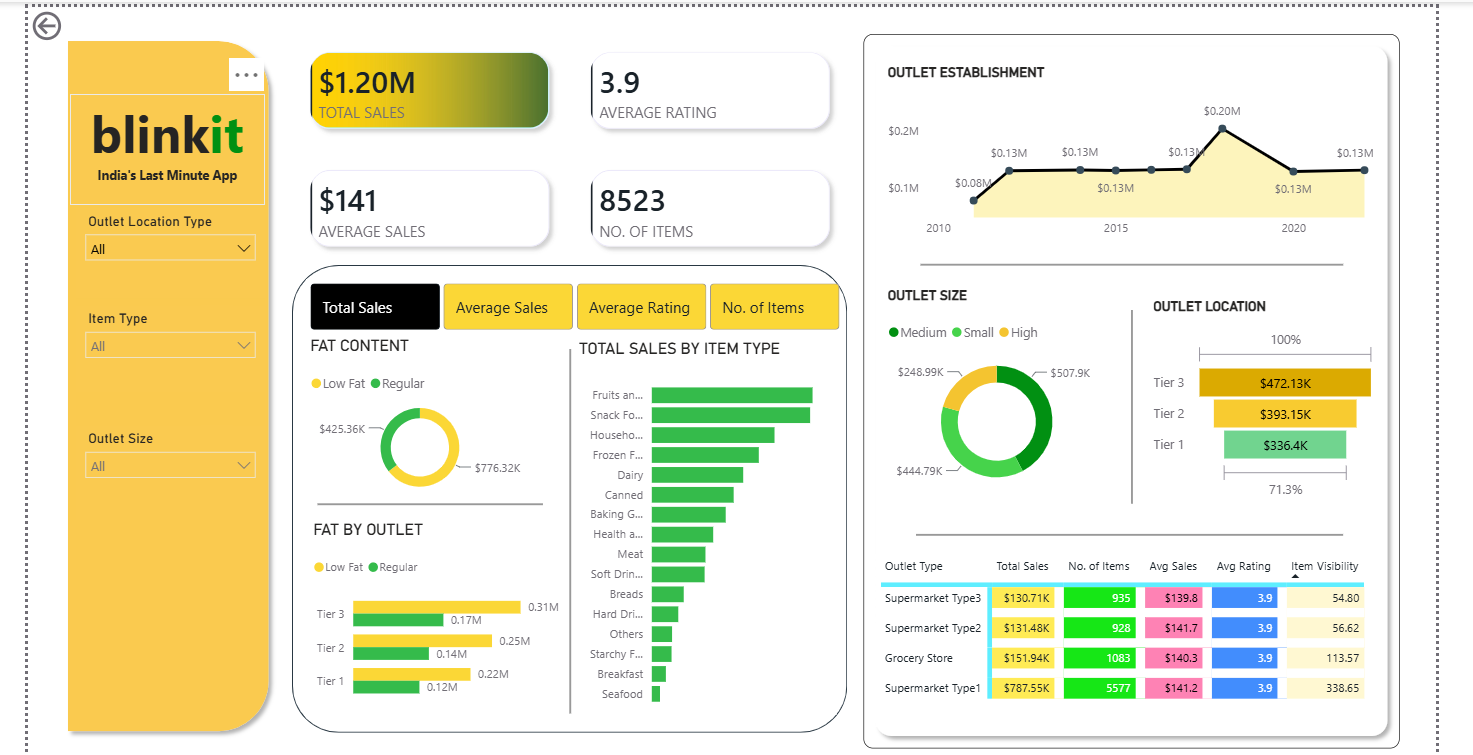

What the dashboard file says about the page in this screenshot:
{"tool":"powerbi","page":{"name":"Page 1","canvas":[1489,800],"ordinal":0},"visuals":[{"type":"shape","box":[33.3,27.3,230.3,748.5],"z":0},{"type":"shape","box":[883.7,27.9,567.4,755.8],"z":1000},{"type":"textbox","box":[45.1,92.2,205.9,117.6],"z":2000},{"type":"donutChart","title":"OUTLET SIZE","fields":{"Category":["Table1.Outlet Size"],"Y":["Sum(Table1.Sales)"]},"box":[905,297.5,240,227.5],"z":3000},{"type":"funnel","title":"OUTLET LOCATION","fields":{"Category":["Table1.Outlet Location Type"],"Y":["Sum(Table1.Sales)"]},"box":[1185,307.5,245,217.5],"z":4000},{"type":"actionButton","box":[0,0,100,40],"z":5000},{"type":"areaChart","title":"OUTLET ESTABLISHMENT","fields":{"Category":["Table1.Outlet Establishment Year"],"Y":["Sum(Table1.Sales)"]},"box":[904.7,60.5,527.1,191.4],"z":6000},{"type":"shape","box":[940,492.5,452,133],"z":7000},{"type":"shape","box":[1085,320,165,205],"z":8000},{"type":"shape","box":[945,212.5,447.5,120],"z":9000},{"type":"slicer","fields":{"Values":["Table1.Outlet Location Type"]},"box":[51.1,213.3,200,95.6],"z":10000},{"type":"slicer","fields":{"Values":["Table1.Item Type"]},"box":[51.1,315.6,200,91.1],"z":11000},{"type":"slicer","fields":{"Values":["Table1.Outlet Size"]},"box":[51.1,442.2,200,100],"z":12000},{"type":"shape","box":[280,272.5,587.5,495],"z":13000},{"type":"cardVisual","fields":{"Data":["Sum(Table1.Sales)","Avg(Table1.Rating)","Avg(Table1.Sales)","CountNonNull(Table1.Item Type)"]},"box":[280,28,588,244],"z":14000},{"type":"pivotTable","fields":{"Rows":["Table1.Outlet Type"],"Values":["Sum(Table1.Sales)","CountNonNull(Table1.Item Type)","Avg(Table1.Sales)","Avg(Table1.Rating)","Sum(Table1.Item Visibility)"]},"box":[897.5,575,532.5,187.5],"z":15000},{"type":"advancedSlicerVisual","fields":{"Values":["Parameter.Parameter"]},"box":[293.6,287.3,573.6,58.2],"z":16000},{"type":"donutChart","title":"FAT CONTENT","fields":{"Y":["Table1.Total Sales"],"Category":["Table1.Item Fat Content"]},"box":[294.3,347.1,241.4,177.1],"z":17000},{"type":"clusteredBarChart","title":"FAT BY OUTLET","fields":{"Y":["Table1.Total Sales"],"Category":["Table1.Outlet Location Type"],"Series":["Table1.Item Fat Content"]},"box":[297.1,542.9,282.9,204.3],"z":18000},{"type":"shape","box":[424.3,361.4,300,385.7],"z":19000},{"type":"shape","box":[305.7,375.7,238.6,300],"z":20000},{"type":"barChart","title":"TOTAL SALES BY ITEM TYPE","fields":{"Y":["Table1.Total Sales"],"Category":["Table1.Item Type"]},"box":[578,350,278,398],"z":21000}]}

Visuals, with their boxes on the page's 1489x800 design canvas (x1, y1, x2, y2). These are canvas units, not pixel positions in the 1473x755 screenshot, which may show the page scaled, cropped or inside an application window:
shape: pyautogui.locateOnScreen(33, 27, 264, 776)
shape: pyautogui.locateOnScreen(884, 28, 1451, 784)
textbox: pyautogui.locateOnScreen(45, 92, 251, 210)
"OUTLET SIZE" donutChart: pyautogui.locateOnScreen(905, 298, 1145, 525)
"OUTLET LOCATION" funnel: pyautogui.locateOnScreen(1185, 308, 1430, 525)
actionButton: pyautogui.locateOnScreen(0, 0, 100, 40)
"OUTLET ESTABLISHMENT" areaChart: pyautogui.locateOnScreen(905, 60, 1432, 252)
shape: pyautogui.locateOnScreen(940, 492, 1392, 626)
shape: pyautogui.locateOnScreen(1085, 320, 1250, 525)
shape: pyautogui.locateOnScreen(945, 212, 1392, 332)
slicer - Table1.Outlet Location Type: pyautogui.locateOnScreen(51, 213, 251, 309)
slicer - Table1.Item Type: pyautogui.locateOnScreen(51, 316, 251, 407)
slicer - Table1.Outlet Size: pyautogui.locateOnScreen(51, 442, 251, 542)
shape: pyautogui.locateOnScreen(280, 272, 868, 768)
cardVisual - Sum(Table1.Sales) x Avg(Table1.Rating): pyautogui.locateOnScreen(280, 28, 868, 272)
pivotTable - Table1.Outlet Type x Sum(Table1.Sales): pyautogui.locateOnScreen(898, 575, 1430, 762)
advancedSlicerVisual - Parameter.Parameter: pyautogui.locateOnScreen(294, 287, 867, 346)
"FAT CONTENT" donutChart: pyautogui.locateOnScreen(294, 347, 536, 524)
"FAT BY OUTLET" clusteredBarChart: pyautogui.locateOnScreen(297, 543, 580, 747)
shape: pyautogui.locateOnScreen(424, 361, 724, 747)
shape: pyautogui.locateOnScreen(306, 376, 544, 676)
"TOTAL SALES BY ITEM TYPE" barChart: pyautogui.locateOnScreen(578, 350, 856, 748)
